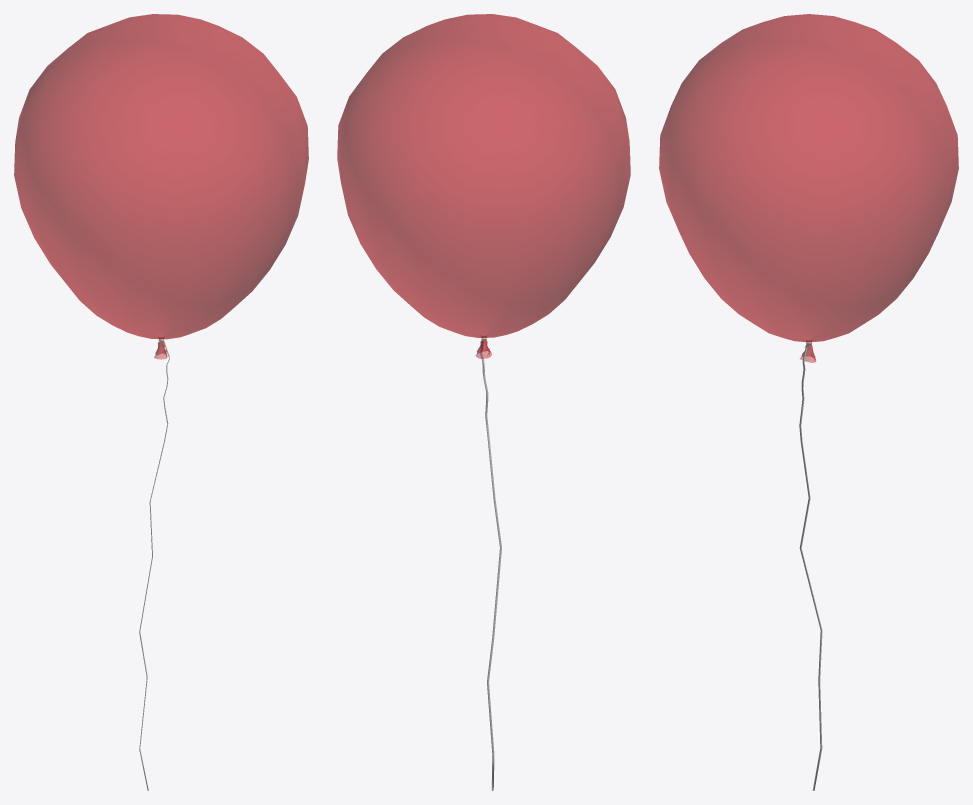
Rendered from balloon.fbx.
3 views of the same model, side by side, from view 1: azimuth 30°, elevation 25°; view 2: azimuth 150°, elevation 25°; view 3: azimuth 270°, elevation 25° (orthographic).
Parts seen in each view (by area): view 1: balloon, balloon_string; view 2: balloon, balloon_string; view 3: balloon, balloon_string.
Part boxes in pixels (box(x1,y1,x2,y2)): balloon: box(14, 14, 308, 359); balloon_string: box(139, 337, 169, 790); balloon: box(337, 14, 630, 358); balloon_string: box(480, 336, 501, 790); balloon: box(659, 14, 958, 362); balloon_string: box(799, 340, 822, 790).
Size of the model in its own units: 2.09 by 5.9 by 2.09.
